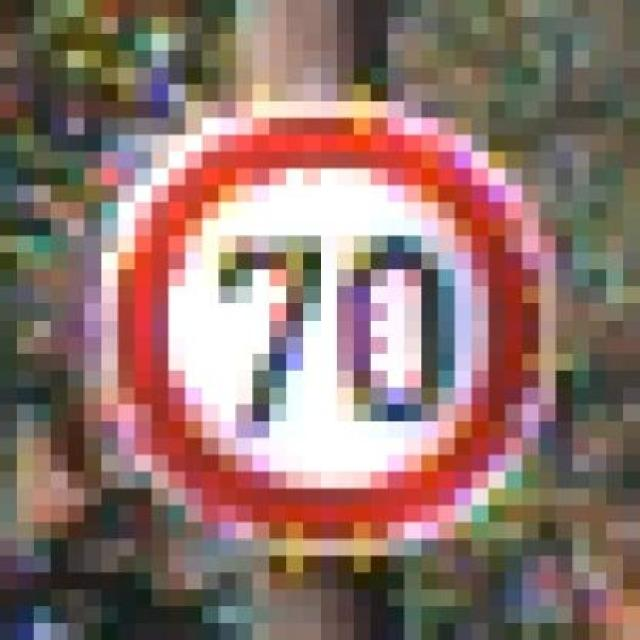forb_speed_over_70: (110, 115, 548, 544)
